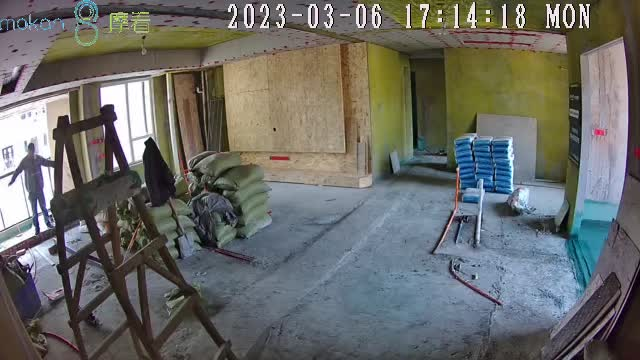people: (9, 143, 55, 234)
window: (1, 92, 76, 236), (101, 86, 155, 163)
